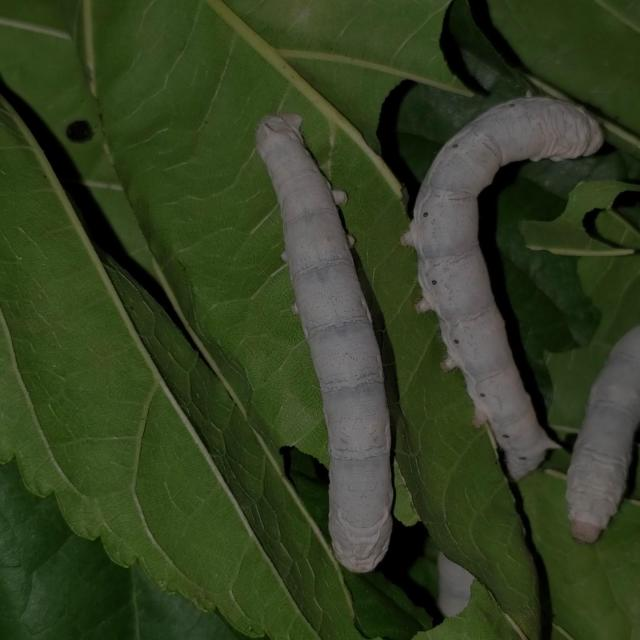Healthy: (406, 53, 606, 479), (230, 101, 401, 577)
